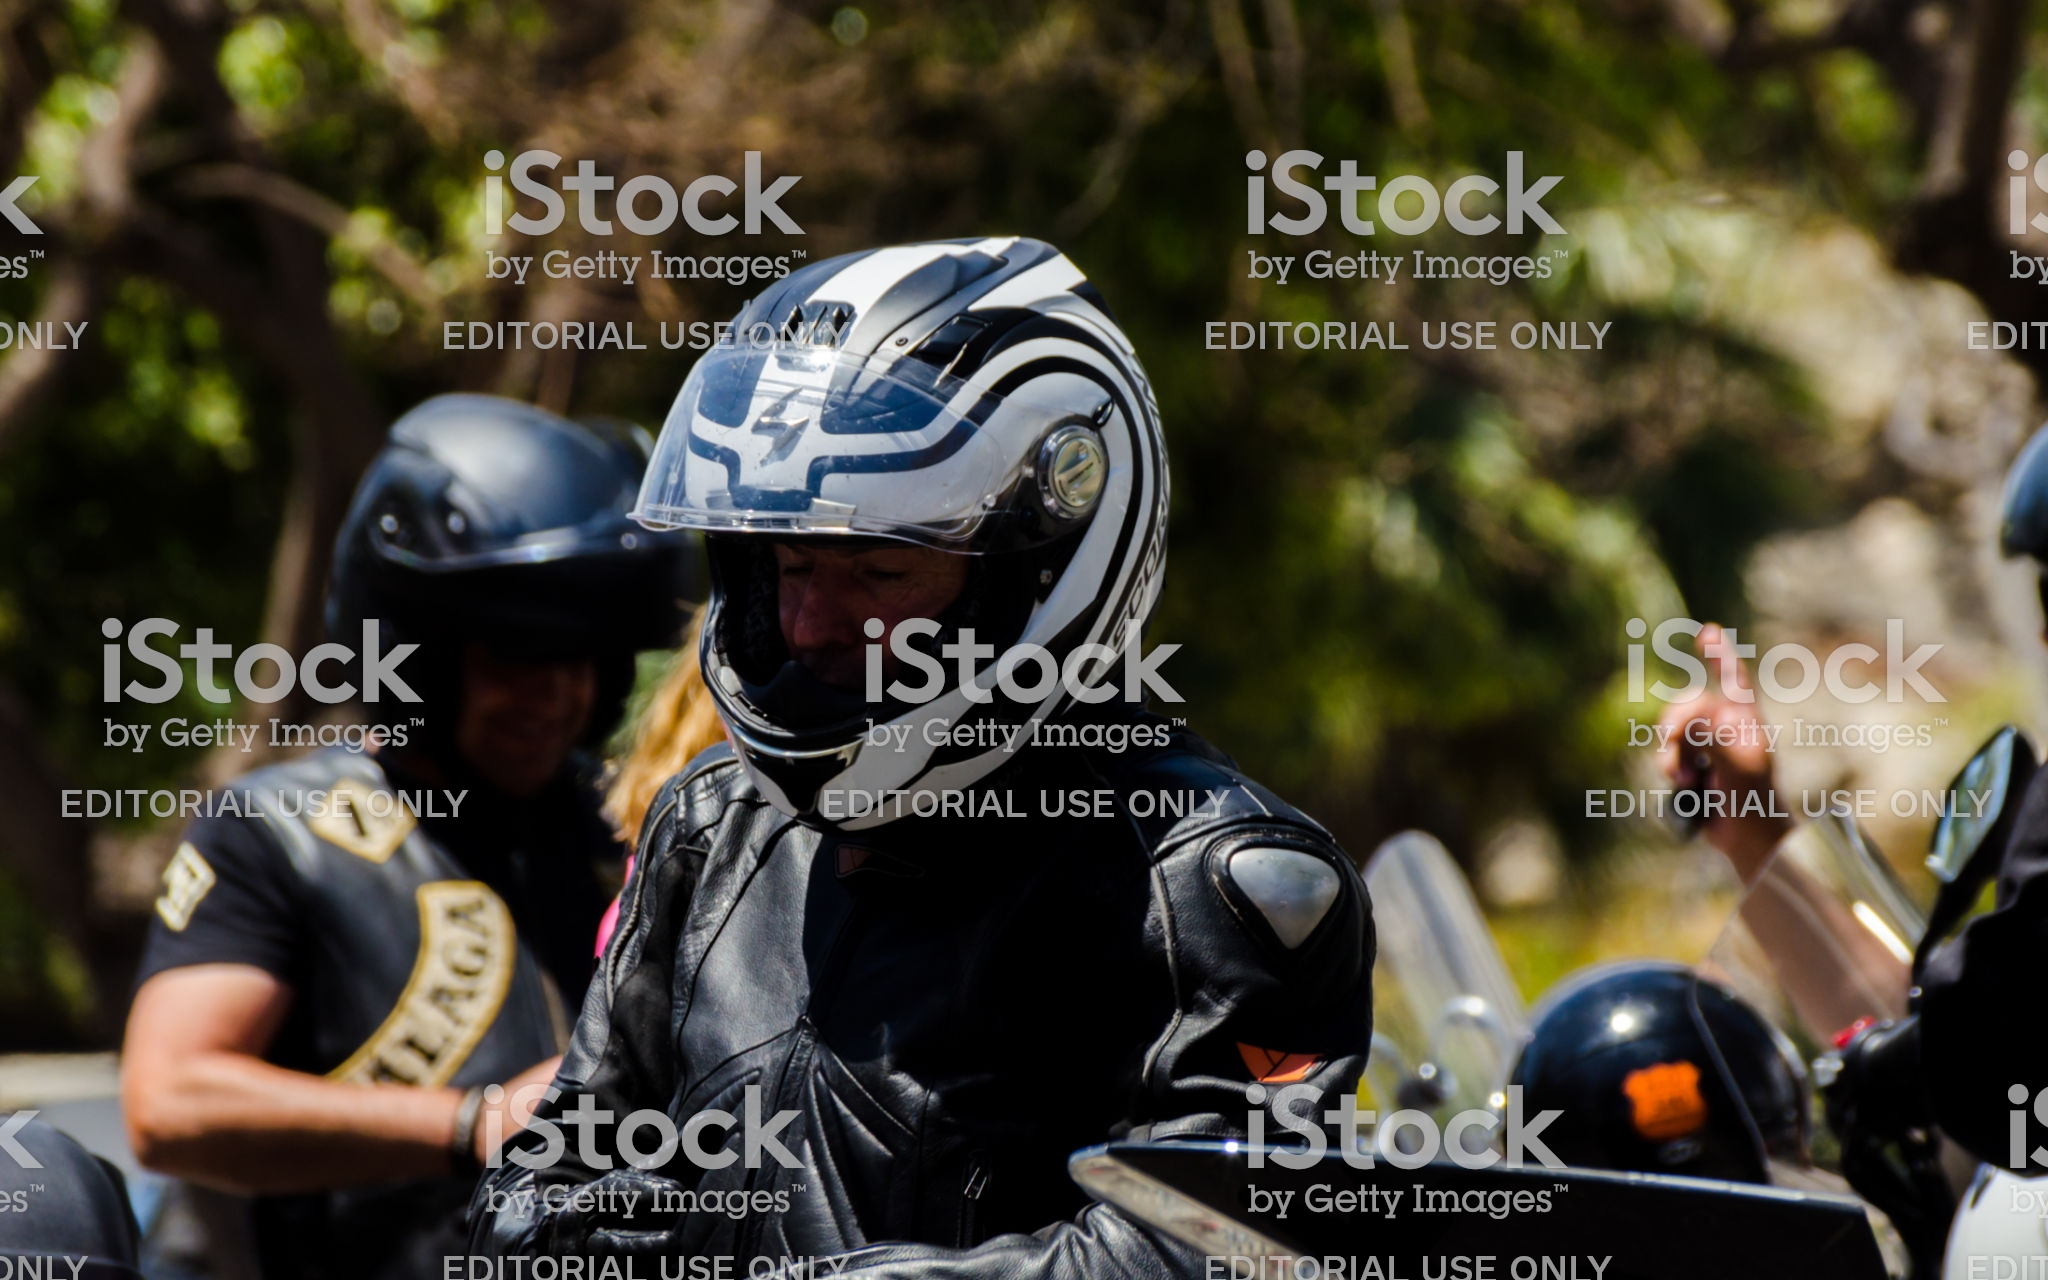helmet: (655, 198, 1224, 827)
